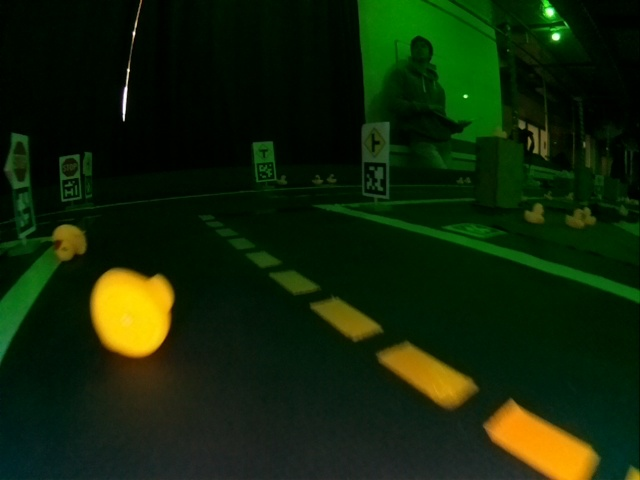Duckie: (91, 268, 176, 356), (52, 224, 86, 260), (525, 202, 544, 223), (565, 209, 584, 229), (584, 209, 595, 224), (456, 176, 465, 186), (328, 174, 337, 183), (313, 175, 322, 184), (278, 175, 287, 183)
Intersection sign: (362, 127, 387, 159), (255, 143, 273, 161)
QR code: (442, 222, 507, 240), (362, 161, 388, 196), (15, 190, 34, 234), (60, 178, 79, 199), (255, 162, 276, 181), (84, 177, 93, 198)
Stop sign: (12, 139, 29, 183), (60, 157, 79, 176)
